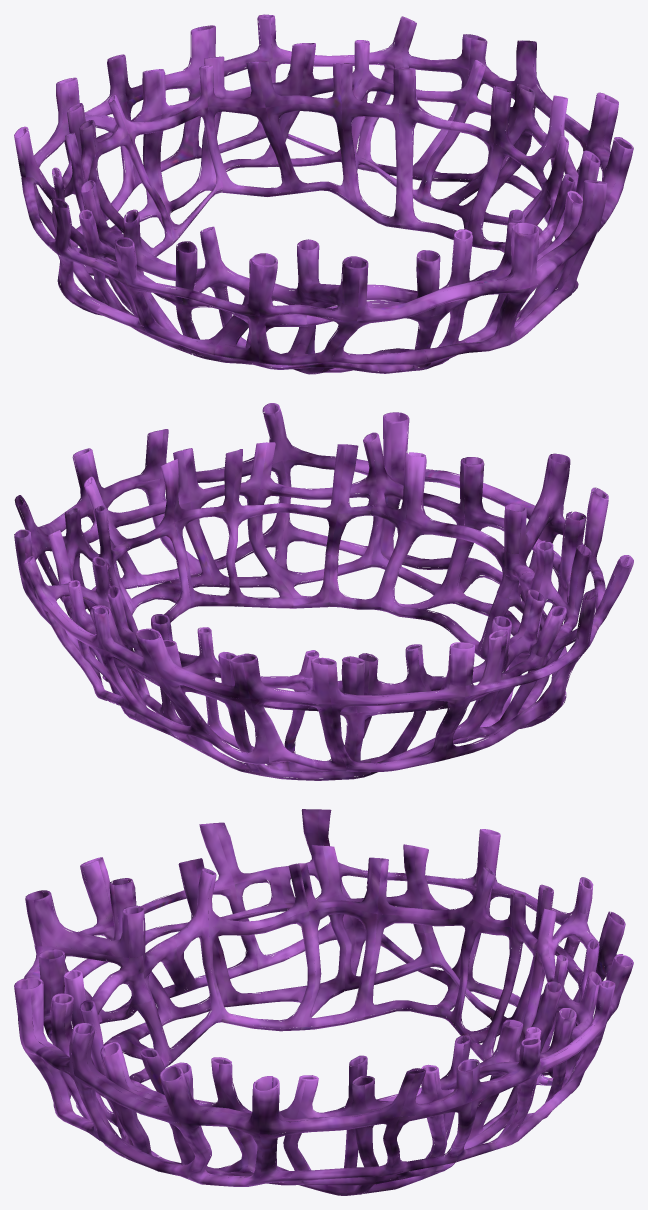
File: ser.glb
3 views of the same model, one above another, from view 1: azimuth 30°, elevation 25°; view 2: azimuth 150°, elevation 25°; view 3: azimuth 270°, elevation 25° (orthographic). The views are drawn at different scales.
Parts seen in each view (by area): view 1: ser; view 2: ser; view 3: ser.
Boxes of the visible parts, bbox=[...] form: ser: bbox=[14, 14, 633, 374]; ser: bbox=[14, 403, 633, 780]; ser: bbox=[14, 809, 633, 1195].
Bounding box in the file's own units: 3.18 × 0.9186 × 3.03.
Materials: 1 (1 with a texture image).
